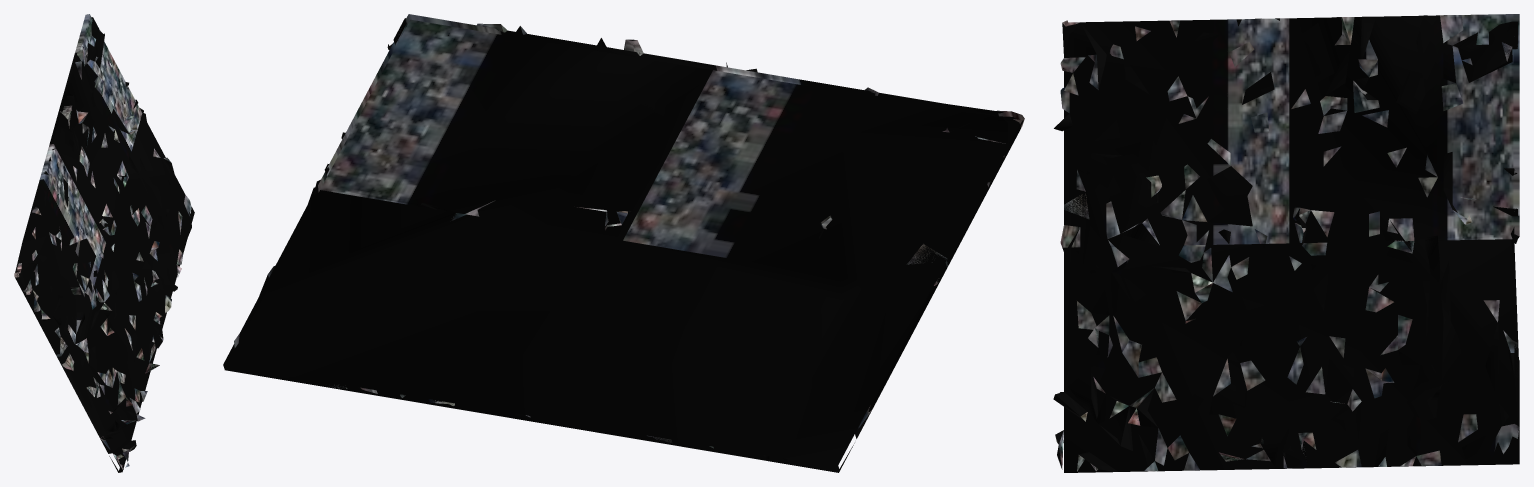
The picture shows the model from 3 angles, left to right: view 1: azimuth 30°, elevation 25°; view 2: azimuth 150°, elevation 25°; view 3: azimuth 270°, elevation 25°; orthographic projection. The views are drawn at different scales.
Parts seen in each view (by area): view 1: node_304362727043605_mesh0; view 2: node_304362727043605_mesh0; view 3: node_304362727043605_mesh0.
Boxes of the visible parts, x1,y1,x2,y2 form: node_304362727043605_mesh0: [14, 14, 194, 472]; node_304362727043605_mesh0: [223, 14, 1024, 472]; node_304362727043605_mesh0: [1053, 14, 1519, 472].
Bounding box in the file's own units: 1161 × 1165 × 904.
1 material, 1 textured.
